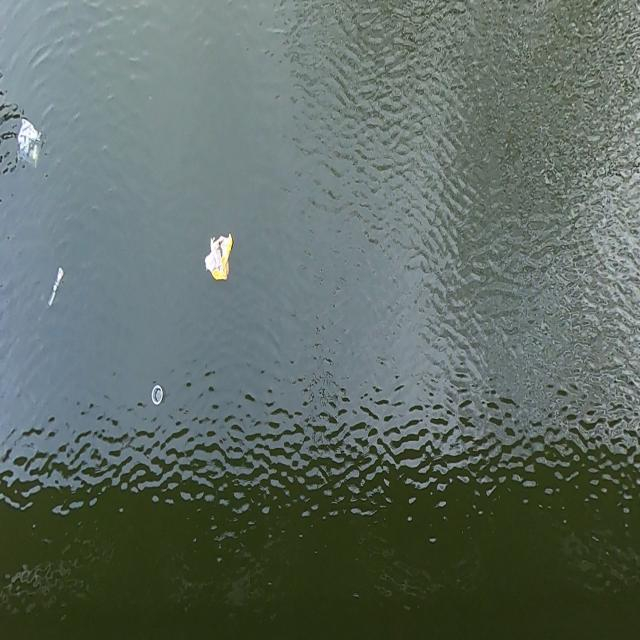Autre plastique: (150, 382, 168, 410)
Sac plastique: (204, 230, 238, 290), (15, 114, 47, 170)
